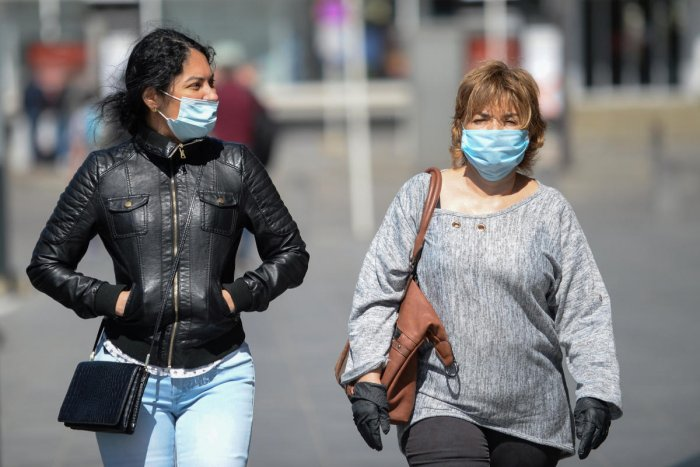with_incorrect_mask: (174, 75, 217, 136)
with_mask: (462, 109, 524, 165)
